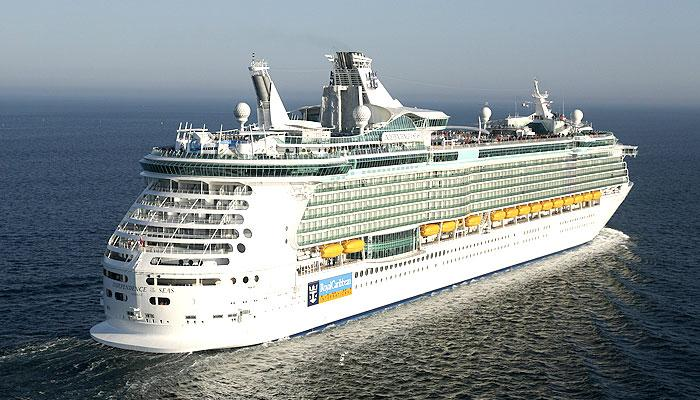youlun: (90, 38, 637, 356)
